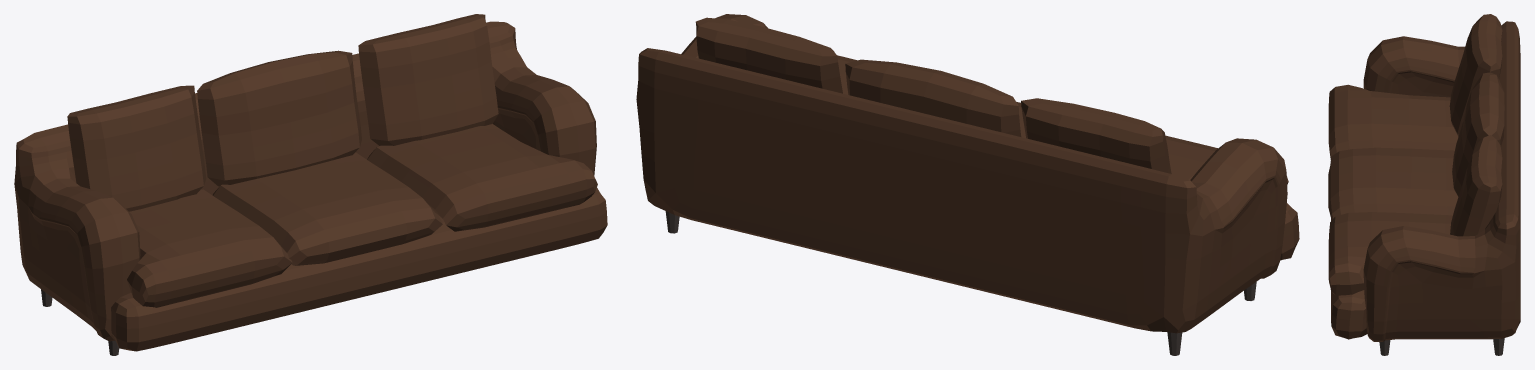
File: Sofa2.glb
3 views of the same model, side by side, from view 1: azimuth 30°, elevation 25°; view 2: azimuth 150°, elevation 25°; view 3: azimuth 270°, elevation 25° (orthographic). The views are drawn at different scales.
Parts seen in each view (by area): view 1: Sofa2; view 2: Sofa2; view 3: Sofa2.
Boxes of the visible parts, x1,y1,x2,y2 form: Sofa2: (14, 14, 607, 355); Sofa2: (636, 14, 1299, 355); Sofa2: (1328, 14, 1520, 355).
Bounding box in the file's own units: 2.27 × 0.8234 × 0.8735.
